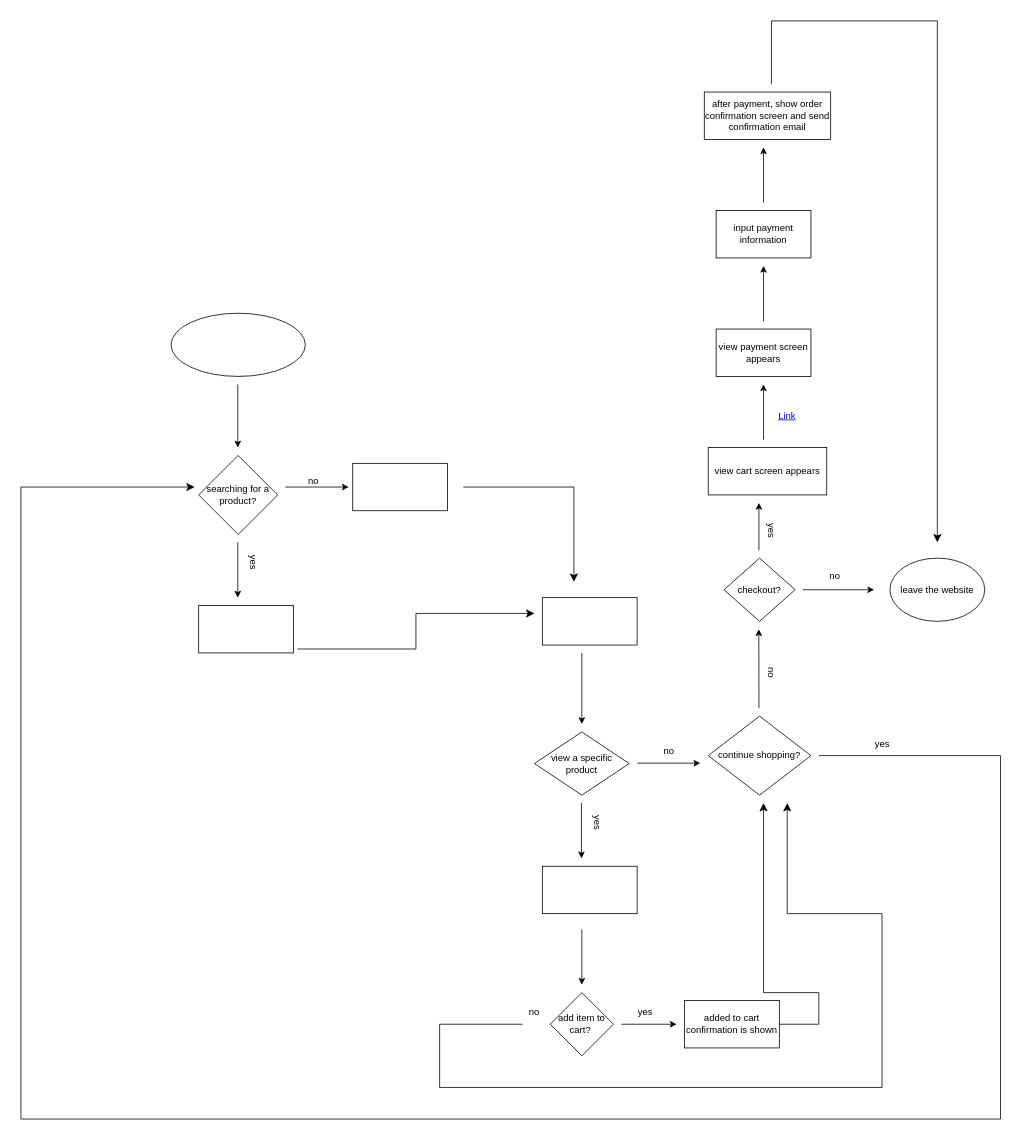
Some shapes in this 1022 by 1141 pixel diagram are drawn without their labels. Each missing label, with the centre of its shape:
explore products in homepage: (400,487)
look over products: (589,621)
product page opens: (589,889)
provide input to website: (245,629)
User enters website: (237,344)
